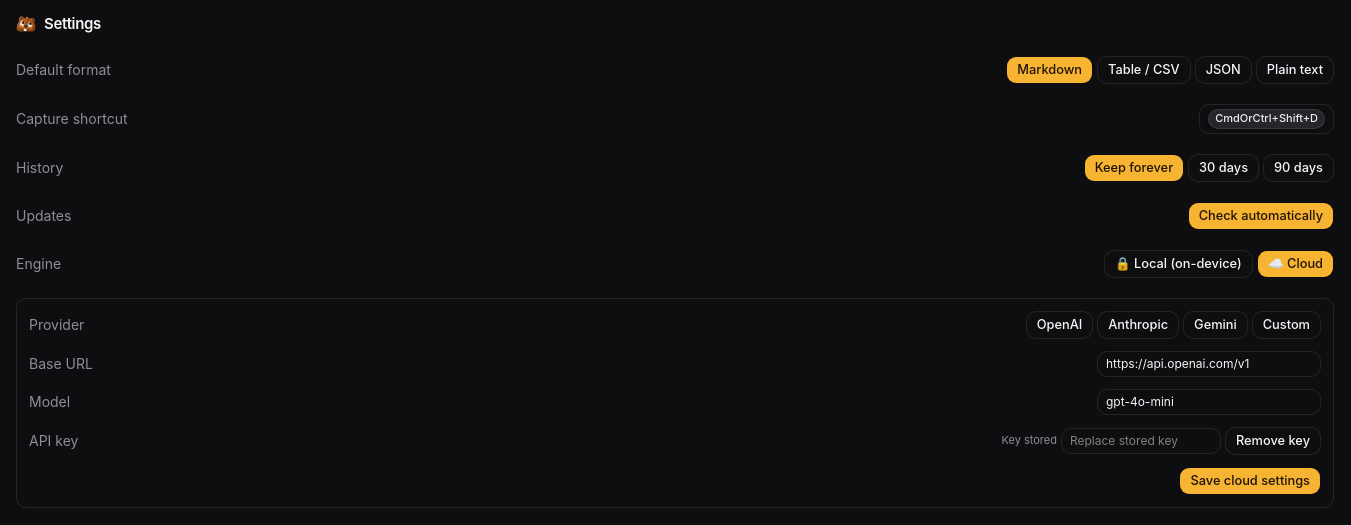
it: SettingsPanel › flags a pending, unsaved key with 'Unsaved changes' even when the URL and model are untouched
The image size is (1351, 525).
Expected: the text "Unsaved changes" is not shown
In the password field named "API key": (1141, 440) [1061,428,1221,454], type "sk-new-key"
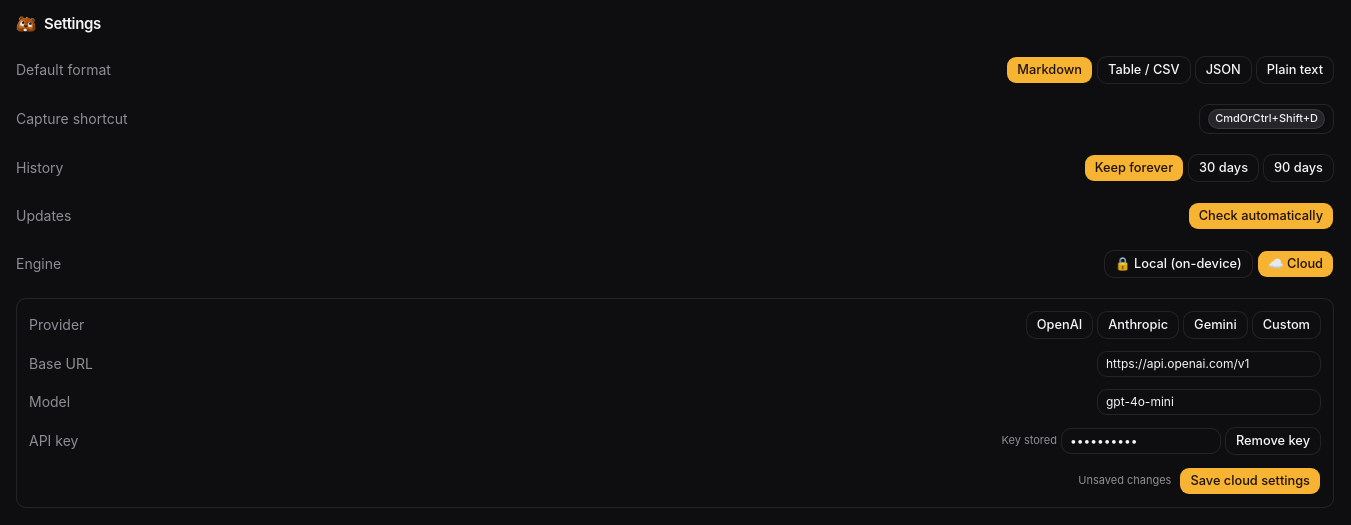
Expected: the text "Unsaved changes" is shown, [1078,472,1172,489]
